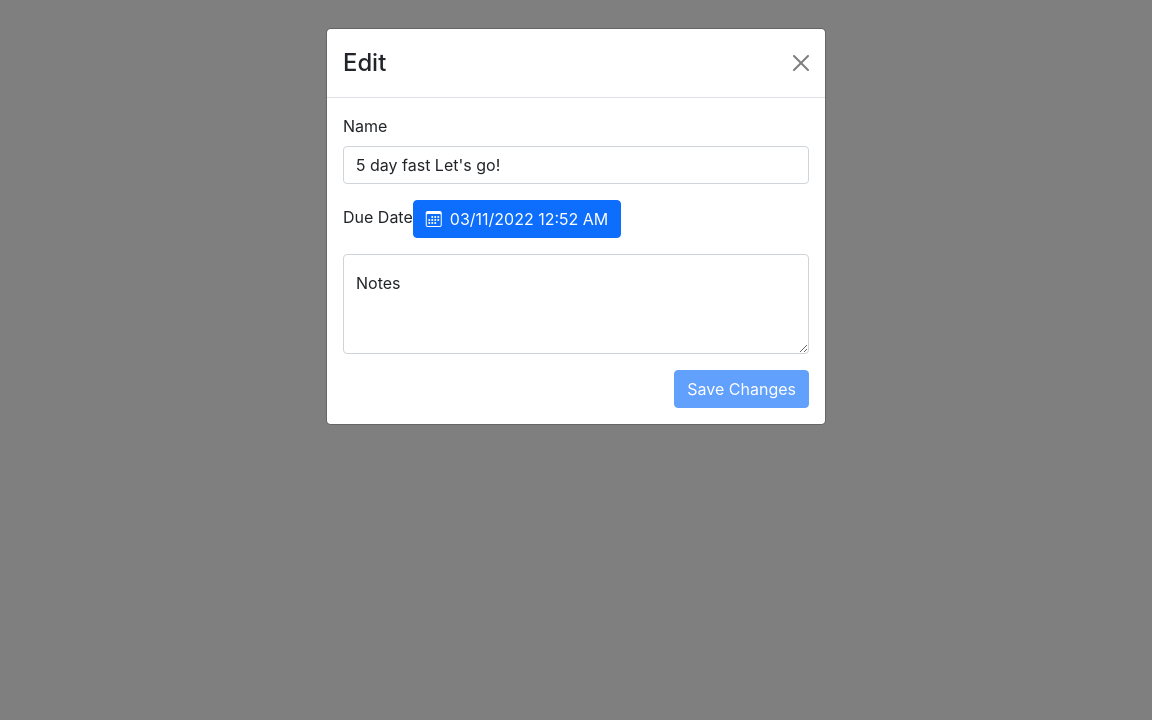
Test case: EditModal › Should display required when name text bux is emptied
Clear the field showing "5 day fast Let's go!" at (576, 165), box [343,146,809,184]
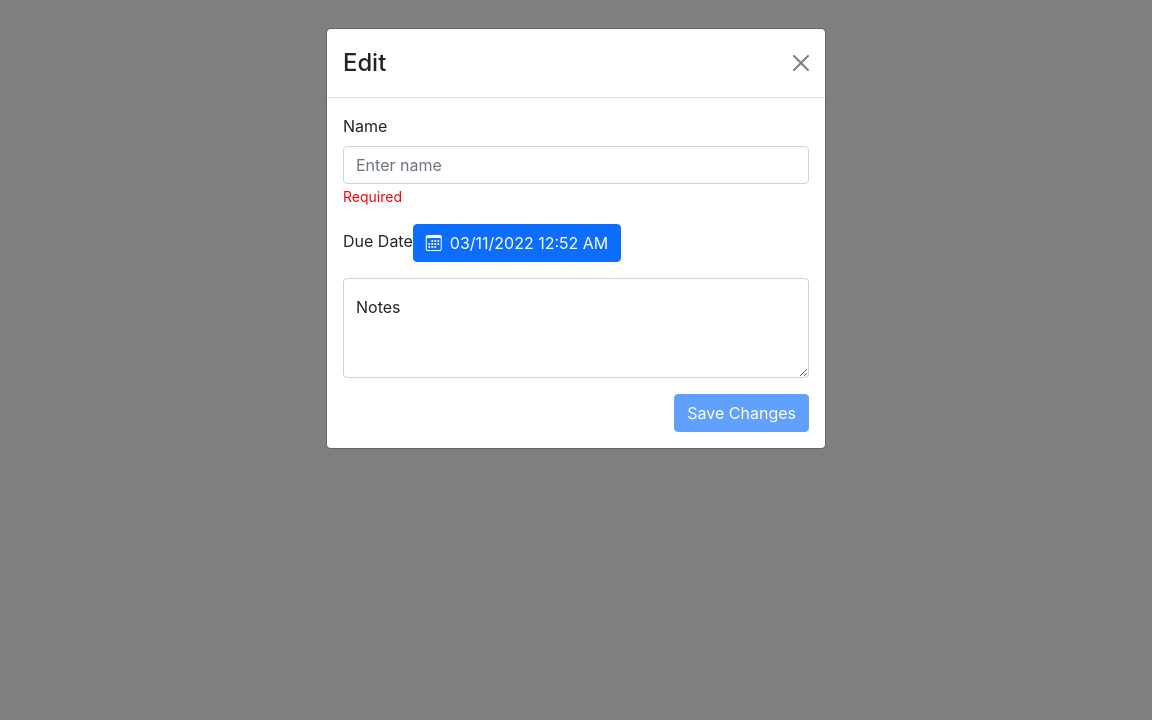
Now the text "Required" is shown, box [343,188,402,205]
